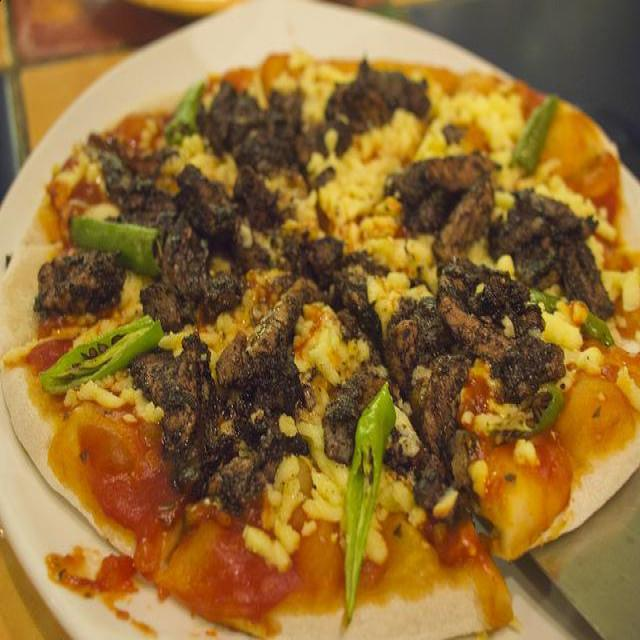knife: (505, 553, 606, 640)
pizza: (1, 55, 640, 632)
